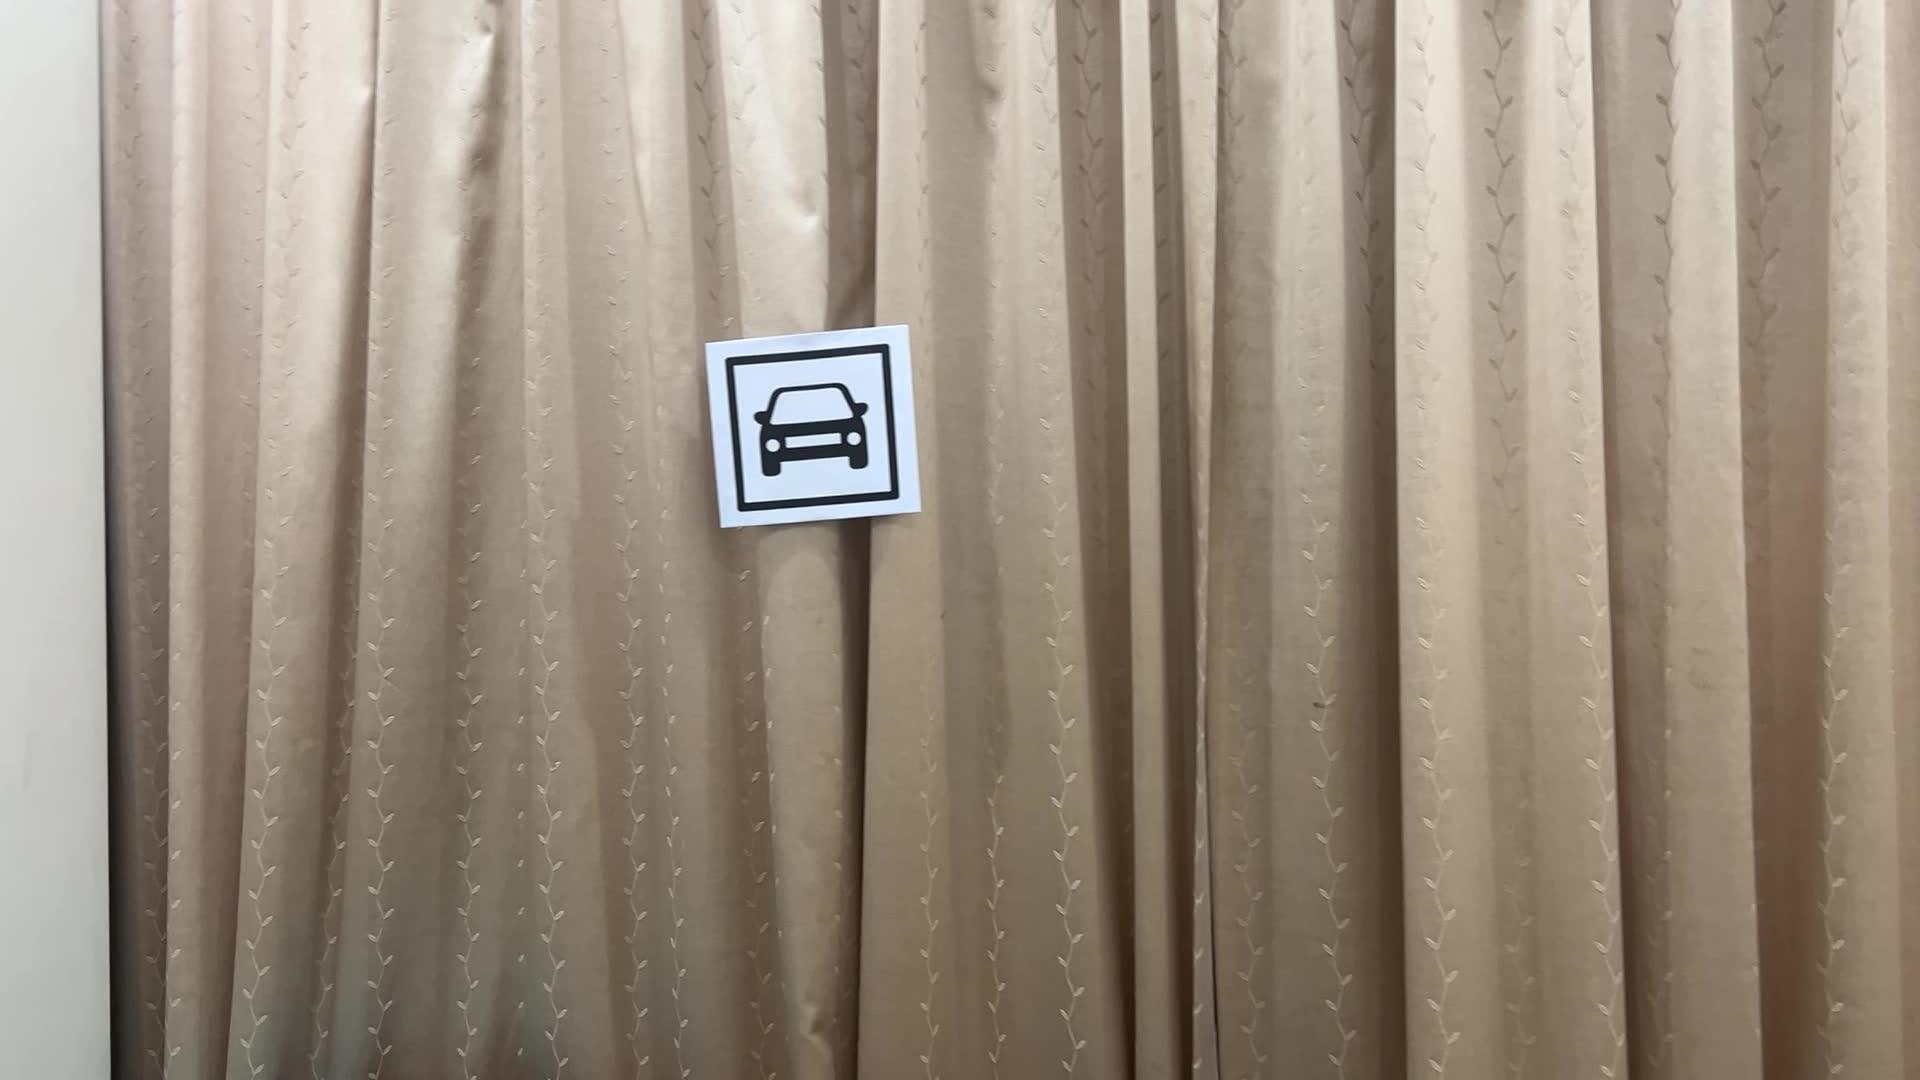car_img: (723, 340, 901, 514)
